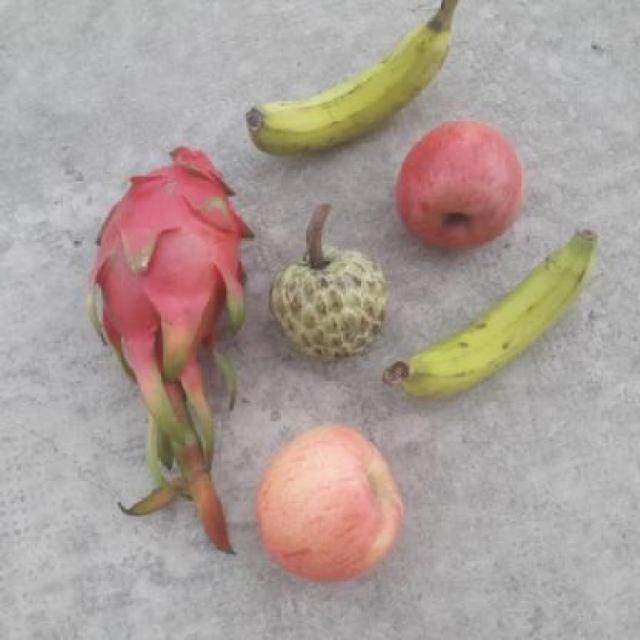apple: (256, 418, 406, 588), (392, 119, 528, 252)
banana: (396, 226, 593, 403), (244, 19, 456, 153)
dragon fruit: (80, 146, 265, 397)
sugar apple: (264, 245, 394, 362)
